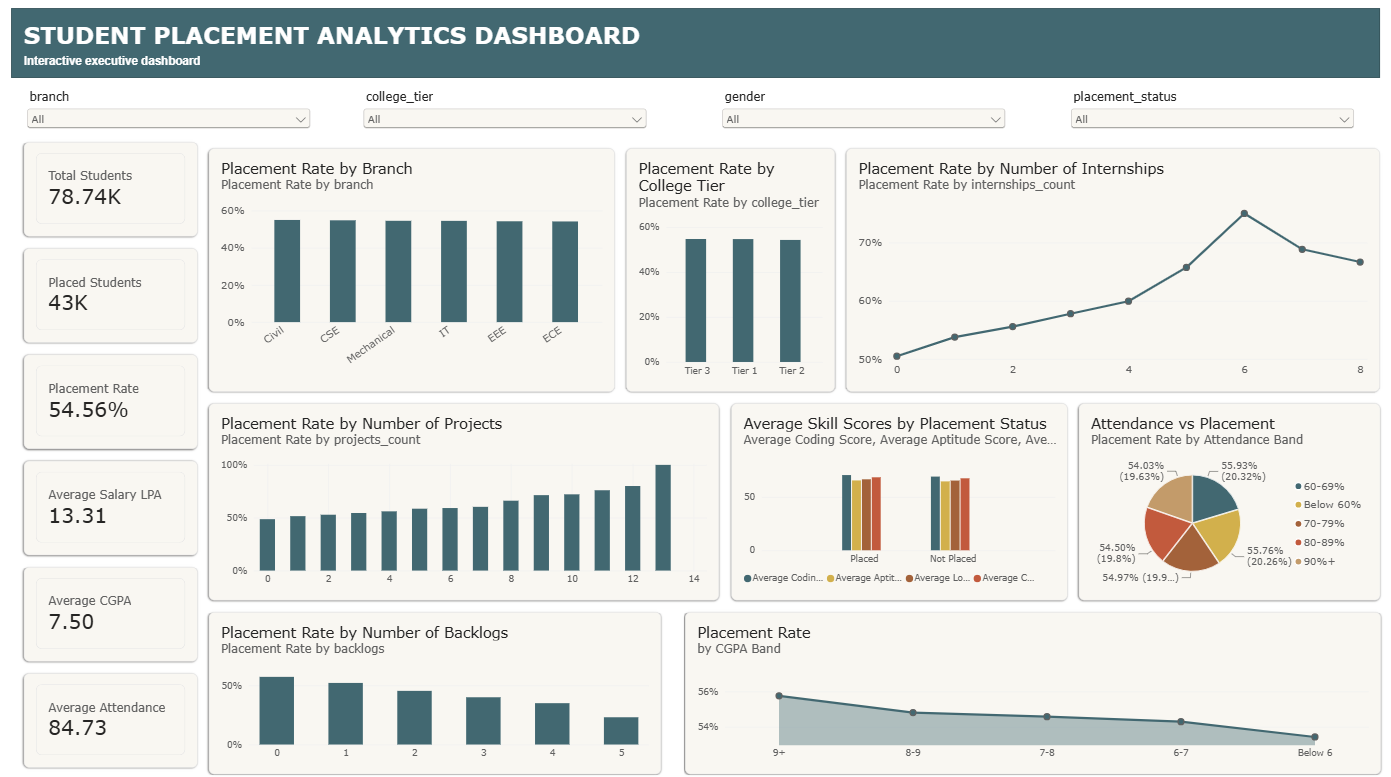

The page's visual inventory and layout, read from the dashboard file:
{"tool":"powerbi","page":{"name":"Executive Overview","canvas":[1920,1080],"ordinal":0},"visuals":[{"type":"cardVisual","fields":{"Data":["student_placement_analytics student_placement.Total Students"]},"box":[32,200,240,130.4],"z":0,"group":"g1"},{"type":"clusteredColumnChart","title":"Placement Rate by Branch","fields":{"Category":["student_placement_analytics student_placement.branch"],"Y":["student_placement_analytics student_placement.Placement Rate"]},"box":[288,208,560,336],"z":0},{"type":"columnChart","title":"Placement Rate by College Tier","fields":{"Category":["student_placement_analytics student_placement.college_tier"],"Y":["student_placement_analytics student_placement.Placement Rate"]},"box":[864,208,288,336],"z":1000},{"type":"cardVisual","fields":{"Data":["student_placement_analytics student_placement.Placed Students"]},"box":[32,346.7,240,130.4],"z":1000,"group":"g1"},{"type":"slicer","fields":{"Values":["student_placement_analytics student_placement.branch"]},"box":[32,128,400,80],"z":2000},{"type":"cardVisual","fields":{"Data":["student_placement_analytics student_placement.Placement Rate"]},"box":[32,493.3,240,130.4],"z":2000,"group":"g1"},{"type":"slicer","fields":{"Values":["student_placement_analytics student_placement.college_tier"]},"box":[496,128,400,80],"z":3000},{"type":"cardVisual","fields":{"Data":["student_placement_analytics student_placement.Average CGPA"]},"box":[32,786.7,240,130.4],"z":3000,"group":"g1"},{"type":"slicer","fields":{"Values":["student_placement_analytics student_placement.gender"]},"box":[992,128,400,80],"z":4000},{"type":"cardVisual","fields":{"Data":["student_placement_analytics student_placement.Average Attendance"]},"box":[32,933.3,240,130.4],"z":4000,"group":"g1"},{"type":"slicer","fields":{"Values":["student_placement_analytics student_placement.placement_status"]},"box":[1472,128,400,80],"z":5000},{"type":"cardVisual","fields":{"Data":["student_placement_analytics student_placement.Average Salary LPA"]},"box":[32,640,240,130.4],"z":5000,"group":"g1"},{"type":"group","id":"g1","title":"Group 1","box":[32,200,240,880],"z":6000},{"type":"shape","box":[16,16,1888,96],"z":7000},{"type":"textbox","box":[32,16,1072,80],"z":8000},{"type":"columnChart","title":"Placement Rate by Number of Backlogs","fields":{"Category":["student_placement_analytics student_placement.backlogs"],"Y":["student_placement_analytics student_placement.Placement Rate"]},"box":[288,848,624,224],"z":9000},{"type":"clusteredColumnChart","title":"Placement Rate by Number of Projects","fields":{"Category":["student_placement_analytics student_placement.projects_count"],"Y":["student_placement_analytics student_placement.Placement Rate"]},"box":[288,560,704,272],"z":10000},{"type":"lineChart","title":"Placement Rate by Number of Internships","fields":{"Category":["student_placement_analytics student_placement.internships_count"],"Y":["student_placement_analytics student_placement.Placement Rate"]},"box":[1168,208,736,336],"z":11000},{"type":"clusteredColumnChart","title":"Average Skill Scores by Placement Status","fields":{"Category":["student_placement_analytics student_placement.placement_status"],"Y":["student_placement_analytics student_placement.Average Coding Score","student_placement_analytics student_placement.Average Aptitude Score","student_placement_analytics student_placement.Average Logical Reasoning Score","student_placement_analytics student_placement.Average Communication Score"]},"box":[1008,560,464,272],"z":12000},{"type":"pieChart","title":"Attendance vs Placement","fields":{"Category":["student_placement_analytics student_placement.Attendance Band"],"Y":["student_placement_analytics student_placement.Placement Rate"]},"box":[1488,560,416,272],"z":13000},{"type":"lineChart","fields":{"Category":["student_placement_analytics student_placement.CGPA Band"],"Y":["student_placement_analytics student_placement.Placement Rate"]},"box":[944,848,960,224],"z":14000},{"type":"textbox","box":[32,80,784,32],"z":15000}]}

Visuals, with their boxes in screenshot pixels (x1, y1, x2, y2), scaled from the page's 1920x1080 canvas onto the 1391x777 screenshot:
cardVisual - student_placement_analytics student_placement.Total Students: {"x1": 23, "y1": 144, "x2": 197, "y2": 238}
"Placement Rate by Branch" clusteredColumnChart: {"x1": 209, "y1": 150, "x2": 614, "y2": 391}
"Placement Rate by College Tier" columnChart: {"x1": 626, "y1": 150, "x2": 835, "y2": 391}
cardVisual - student_placement_analytics student_placement.Placed Students: {"x1": 23, "y1": 249, "x2": 197, "y2": 343}
slicer - student_placement_analytics student_placement.branch: {"x1": 23, "y1": 92, "x2": 313, "y2": 150}
cardVisual - student_placement_analytics student_placement.Placement Rate: {"x1": 23, "y1": 355, "x2": 197, "y2": 449}
slicer - student_placement_analytics student_placement.college_tier: {"x1": 359, "y1": 92, "x2": 649, "y2": 150}
cardVisual - student_placement_analytics student_placement.Average CGPA: {"x1": 23, "y1": 566, "x2": 197, "y2": 660}
slicer - student_placement_analytics student_placement.gender: {"x1": 719, "y1": 92, "x2": 1008, "y2": 150}
cardVisual - student_placement_analytics student_placement.Average Attendance: {"x1": 23, "y1": 671, "x2": 197, "y2": 765}
slicer - student_placement_analytics student_placement.placement_status: {"x1": 1066, "y1": 92, "x2": 1356, "y2": 150}
cardVisual - student_placement_analytics student_placement.Average Salary LPA: {"x1": 23, "y1": 460, "x2": 197, "y2": 554}
"Group 1" group: {"x1": 23, "y1": 144, "x2": 197, "y2": 776}
shape: {"x1": 12, "y1": 12, "x2": 1379, "y2": 81}
textbox: {"x1": 23, "y1": 12, "x2": 800, "y2": 69}
"Placement Rate by Number of Backlogs" columnChart: {"x1": 209, "y1": 610, "x2": 661, "y2": 771}
"Placement Rate by Number of Projects" clusteredColumnChart: {"x1": 209, "y1": 403, "x2": 719, "y2": 599}
"Placement Rate by Number of Internships" lineChart: {"x1": 846, "y1": 150, "x2": 1379, "y2": 391}
"Average Skill Scores by Placement Status" clusteredColumnChart: {"x1": 730, "y1": 403, "x2": 1066, "y2": 599}
"Attendance vs Placement" pieChart: {"x1": 1078, "y1": 403, "x2": 1379, "y2": 599}
lineChart - student_placement_analytics student_placement.CGPA Band x student_placement_analytics student_placement.Placement Rate: {"x1": 684, "y1": 610, "x2": 1379, "y2": 771}
textbox: {"x1": 23, "y1": 58, "x2": 591, "y2": 81}
